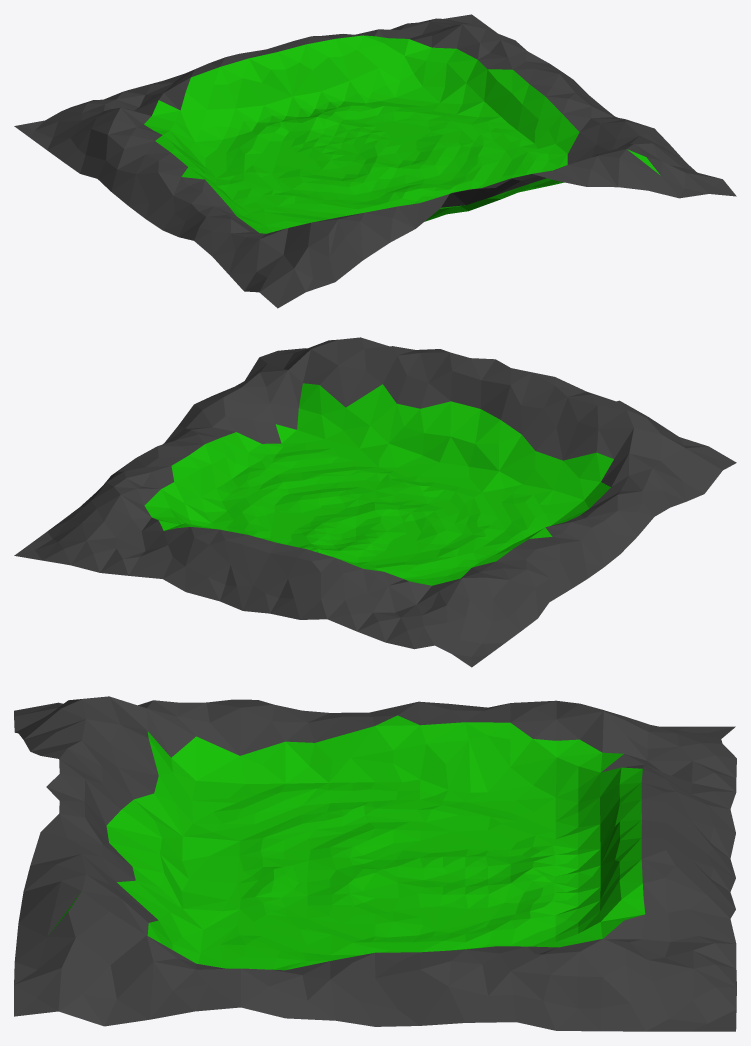
The model's file is Terrain#1.fbx.
The picture shows the model from 3 angles, top to bottom: view 1: azimuth 30°, elevation 25°; view 2: azimuth 150°, elevation 25°; view 3: azimuth 270°, elevation 25°; orthographic projection. The views are drawn at different scales.
Visible parts, largest first — view 1: Terrain#2; view 2: Terrain#2; view 3: Terrain#2.
Part boxes in pixels (x1,y1,x2,y2): Terrain#2: [14, 14, 736, 308]; Terrain#2: [14, 337, 736, 667]; Terrain#2: [14, 696, 736, 1031].
Bounding box in the file's own units: 8836 × 1240 × 8742.
